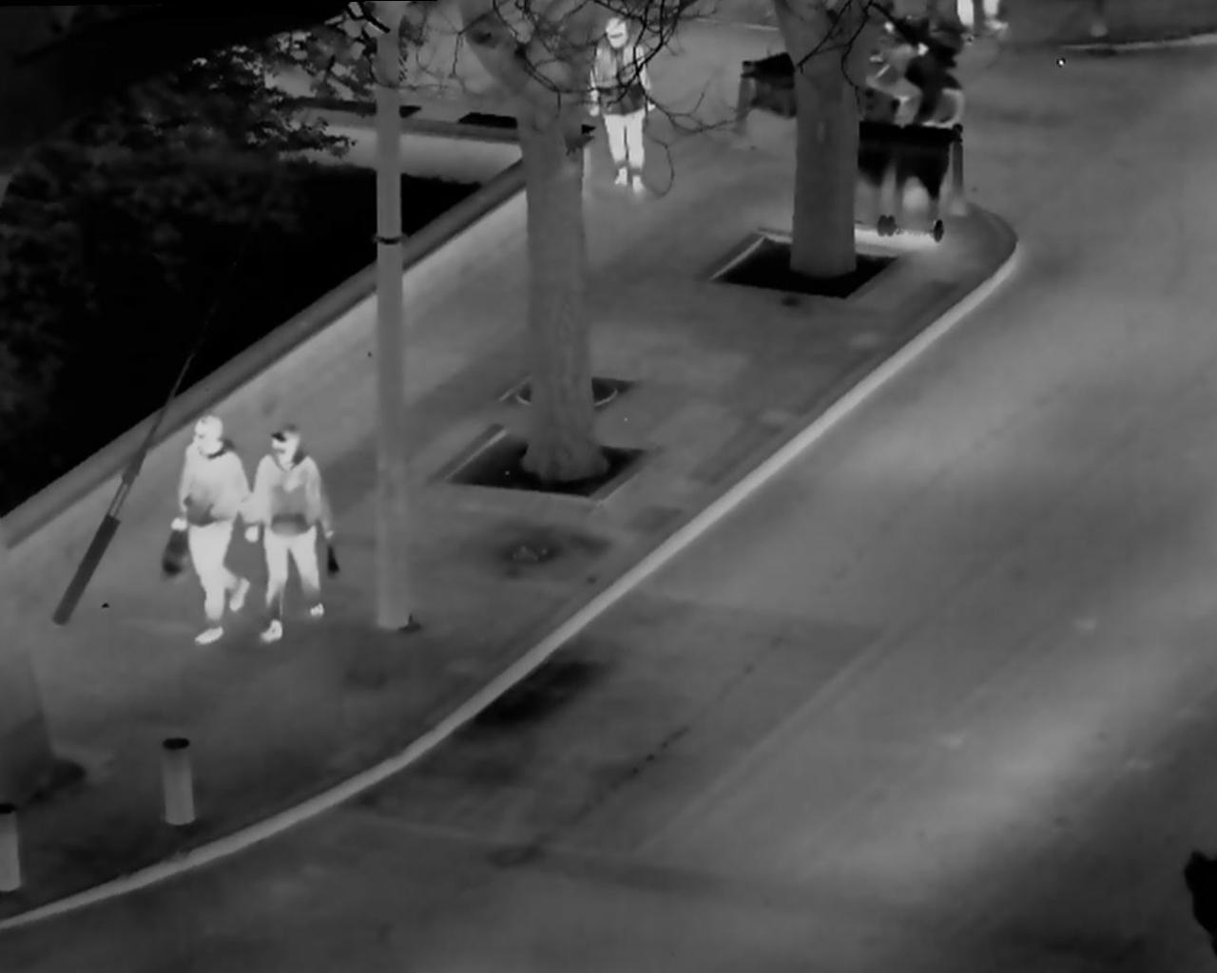person: (246, 420, 348, 646), (164, 406, 254, 647), (579, 12, 670, 202)
